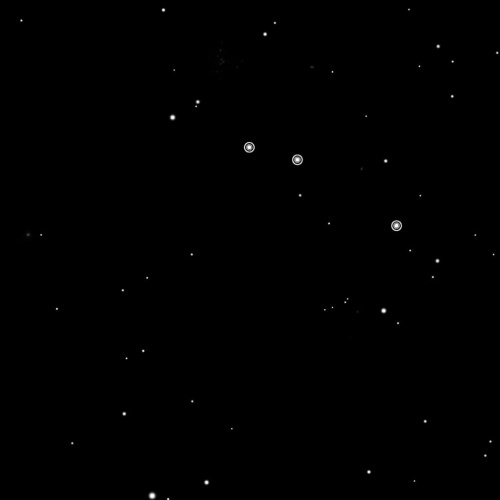vulpecula: (242, 136, 406, 235)
